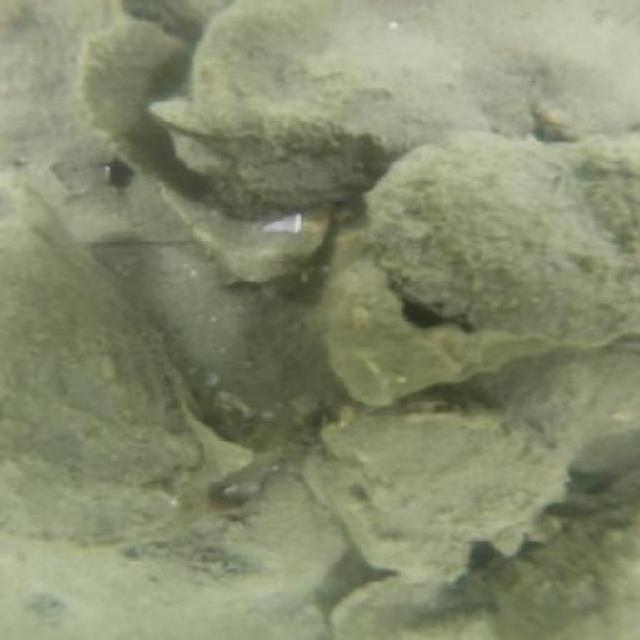Oyster-Closed: (0, 182, 196, 538)
Oyster-Indeterminate: (72, 20, 336, 286), (369, 135, 619, 348), (187, 1, 493, 152), (313, 404, 575, 579), (91, 474, 336, 605), (162, 109, 427, 206), (470, 353, 636, 469)
